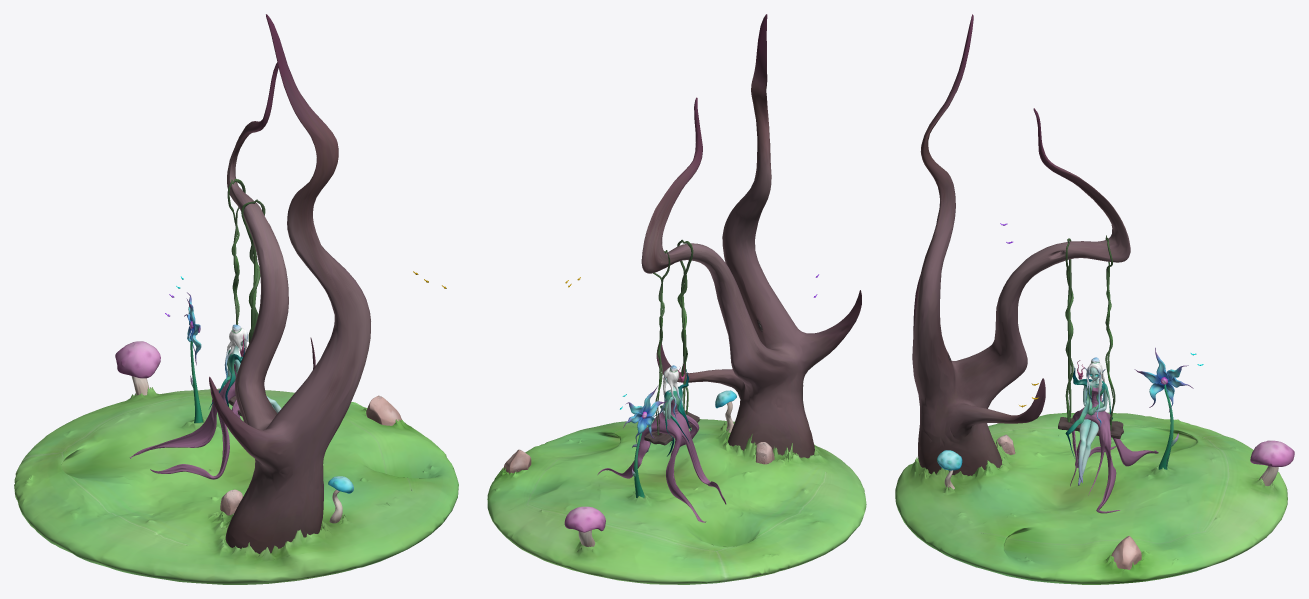
The model's file is fantasy-elf-scene-mobile.glb.
The picture shows the model from 3 angles, left to right: view 1: azimuth 30°, elevation 25°; view 2: azimuth 150°, elevation 25°; view 3: azimuth 270°, elevation 25°; orthographic projection. The views are drawn at different scales.
Visible parts, largest first — view 1: ScenePart_00, ScenePart_11, Elf, ScenePart_08, ScenePart_13, ScenePart_05, ScenePart_12; view 2: ScenePart_00, ScenePart_11, Elf, ScenePart_08, ScenePart_13, ScenePart_04, ScenePart_12; view 3: ScenePart_00, ScenePart_11, Elf, ScenePart_08, ScenePart_04, ScenePart_13, ScenePart_05, ScenePart_12.
Part boxes in pixels (x1,y1,x2,y2): ScenePart_00: [14, 387, 458, 584]; ScenePart_11: [209, 14, 370, 553]; Elf: [130, 324, 281, 479]; ScenePart_08: [115, 341, 160, 378]; ScenePart_13: [241, 199, 265, 342]; ScenePart_05: [366, 395, 401, 425]; ScenePart_12: [227, 178, 245, 324]; ScenePart_00: [487, 419, 866, 584]; ScenePart_11: [641, 14, 861, 457]; Elf: [597, 364, 726, 522]; ScenePart_08: [564, 506, 605, 532]; ScenePart_13: [677, 239, 693, 414]; ScenePart_04: [623, 386, 667, 442]; ScenePart_12: [653, 250, 670, 434]; ScenePart_00: [895, 412, 1287, 584]; ScenePart_11: [912, 14, 1130, 475]; Elf: [1065, 357, 1158, 513]; ScenePart_08: [1250, 440, 1294, 467]; ScenePart_04: [1134, 347, 1193, 411]; ScenePart_13: [1065, 238, 1073, 422]; ScenePart_05: [1111, 535, 1141, 569]; ScenePart_12: [1105, 235, 1115, 430].
Bounding box in the file's own units: 2.44 × 3.41 × 2.48.
18 materials, 18 textured.
